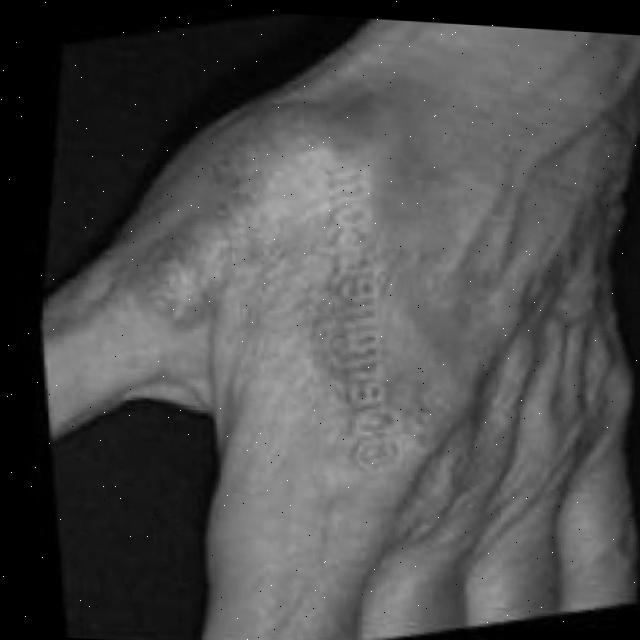Eczema: (124, 123, 480, 476)
